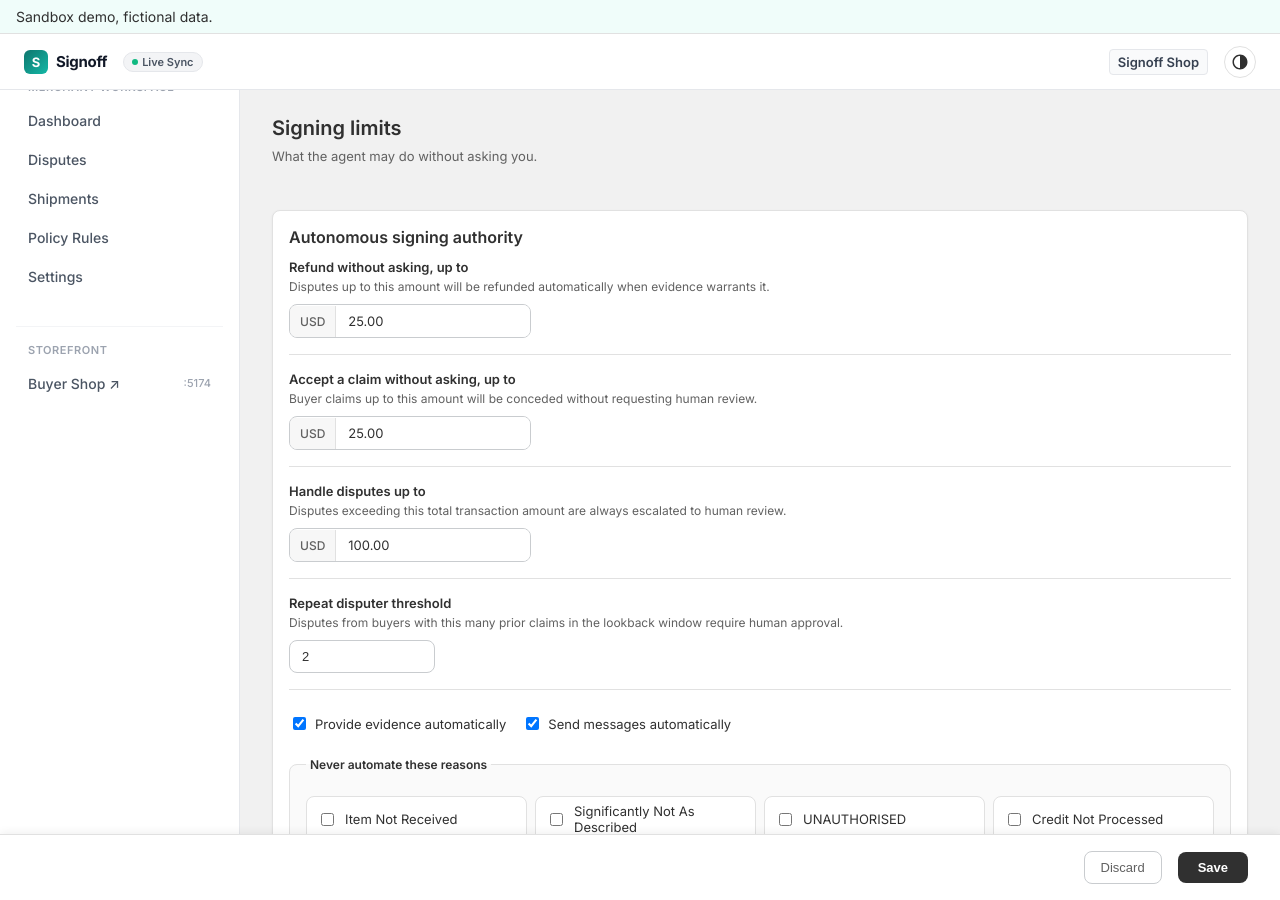
Charter page (Step 27) › shows a field-level error and does not save invalid input
expect the header with test id "charter-title" is shown: met, box [272,116,537,164]
Replace the text in the field named "Auto-offer maximum (USD)" with "12.345" at (442, 321), box [336,305,548,337]
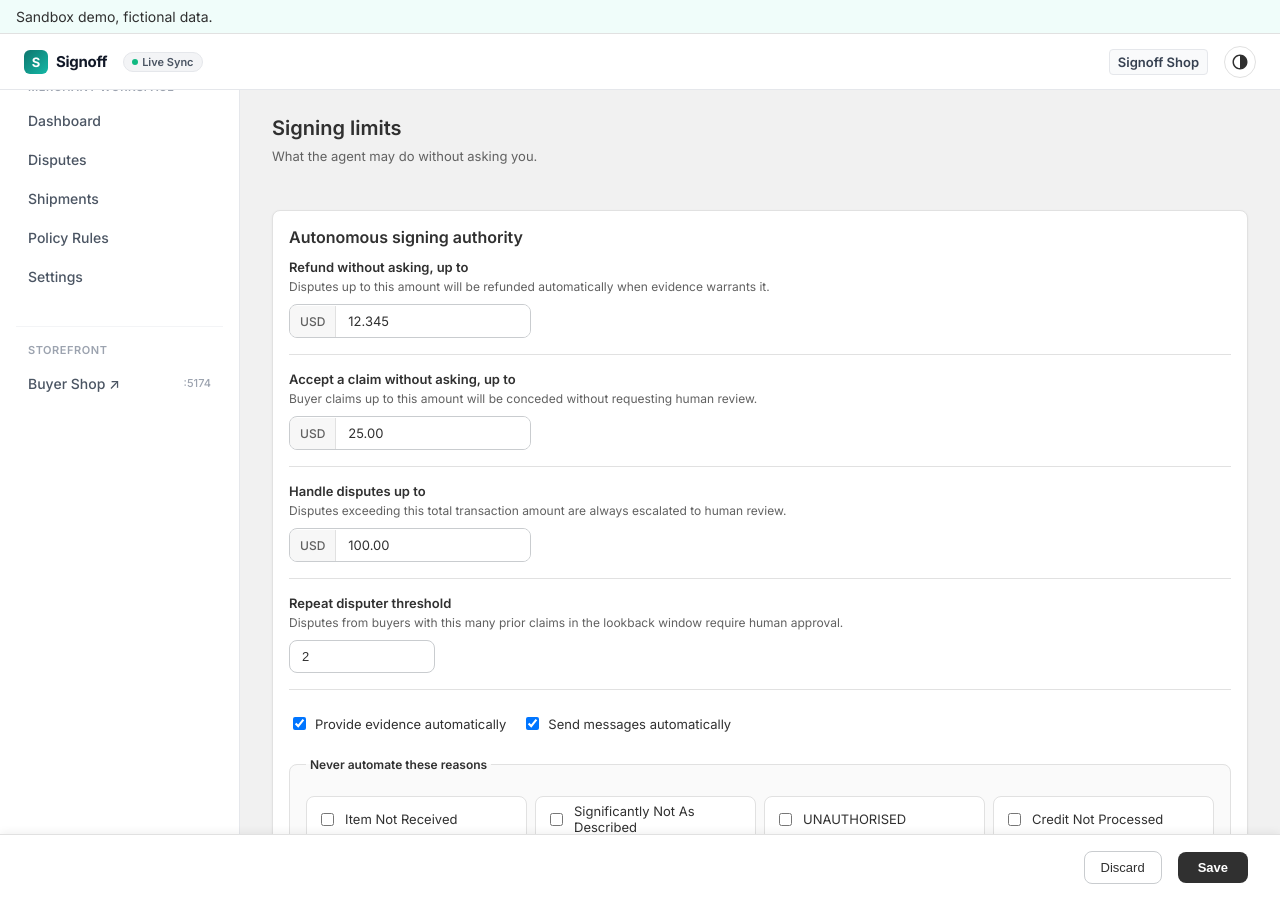
Click the button with test id "charter-save-button" at (1213, 868), box [1178,852,1248,883]
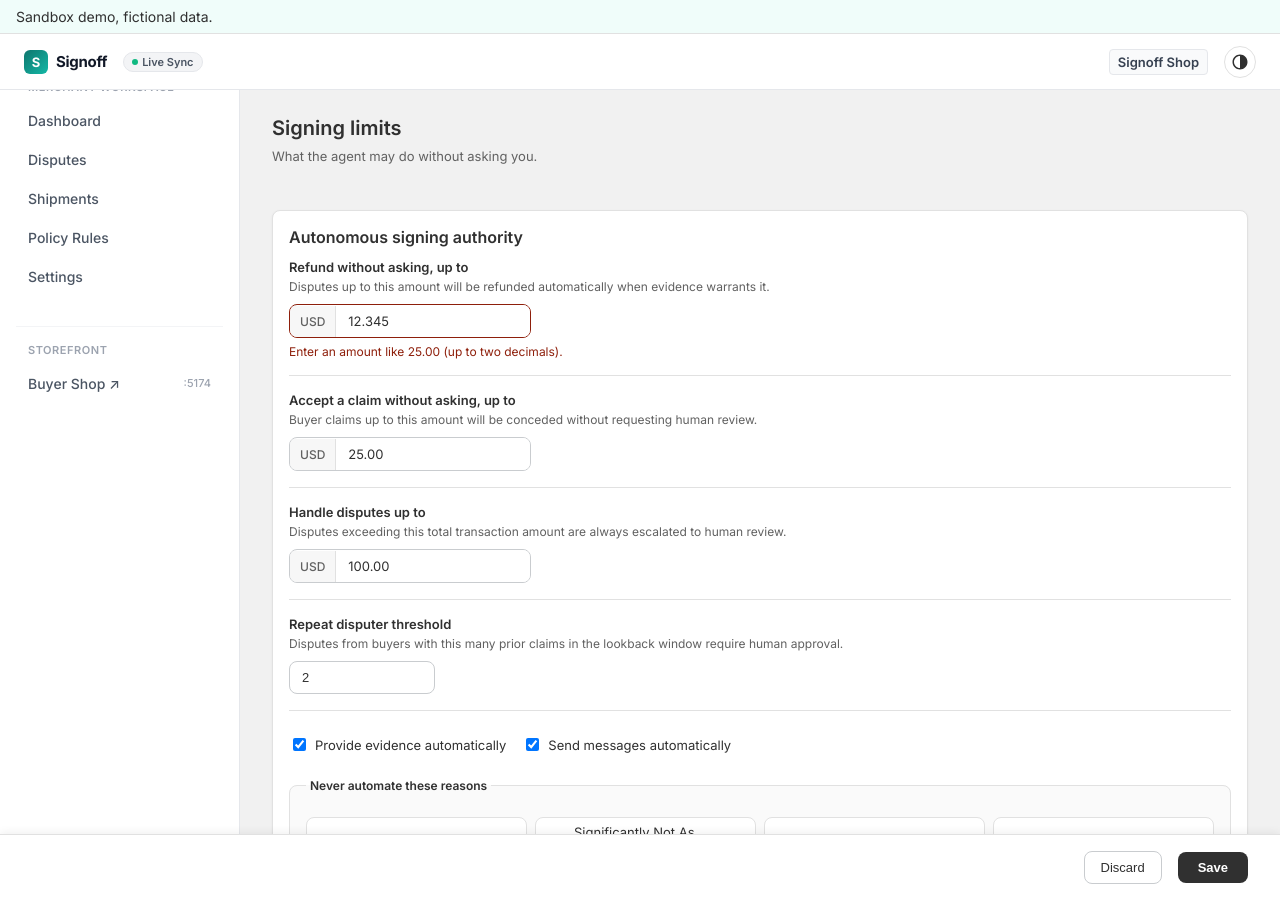
expect the message with test id "charter-auto-offer-error" shows "two decimals": met, box [289,344,563,359]
